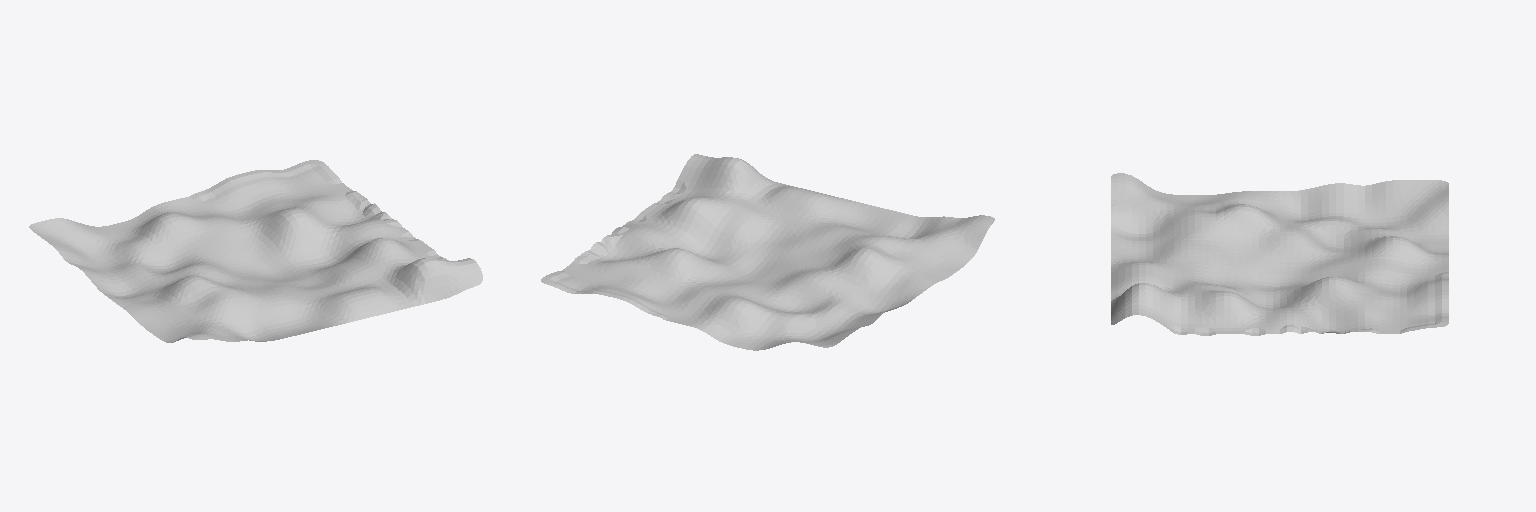
File: oceanfloor.obj
3 views of the same model, side by side, from view 1: azimuth 30°, elevation 25°; view 2: azimuth 150°, elevation 25°; view 3: azimuth 270°, elevation 25° (orthographic).
Parts seen in each view (by area): view 1: OceanFloor; view 2: OceanFloor; view 3: OceanFloor.
Part boxes in pixels (left/top/right/bottom): OceanFloor: left=29, top=160, right=482, bottom=342; OceanFloor: left=541, top=154, right=994, bottom=350; OceanFloor: left=1111, top=173, right=1448, bottom=335.
Size of the model in its own units: 174 by 24.5 by 174.